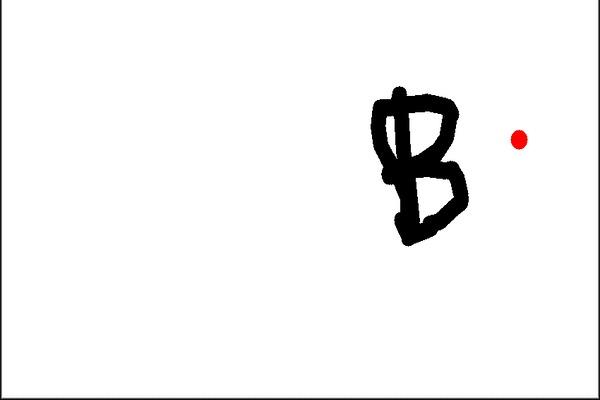B: (353, 76, 479, 252)
